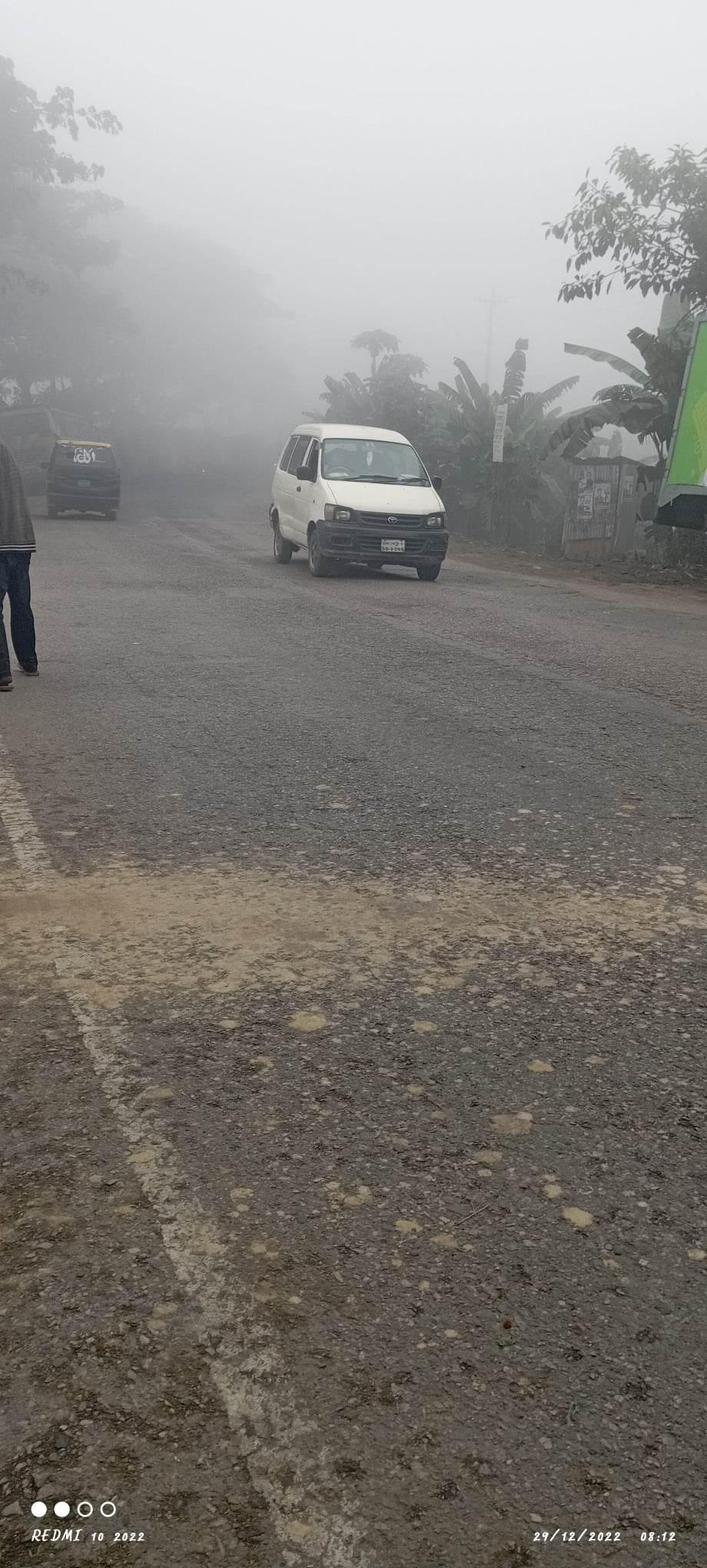Car: (253, 387, 456, 613), (35, 416, 138, 560)
